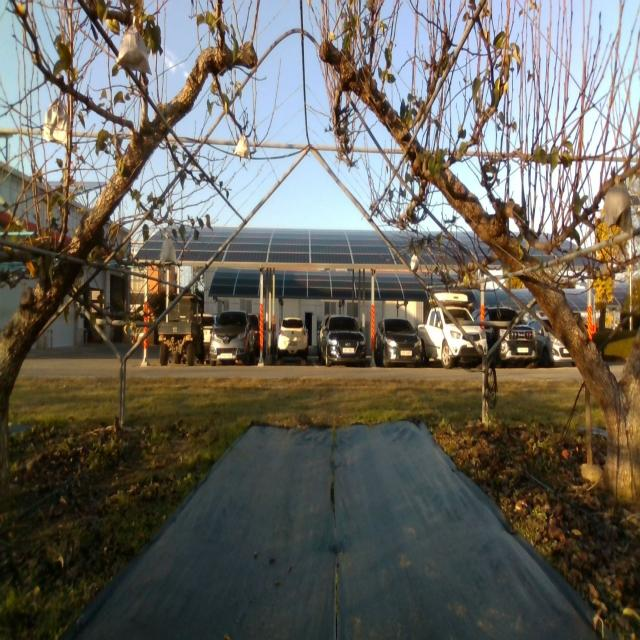pearbags: (115, 25, 152, 75), (604, 184, 632, 233), (44, 100, 68, 142), (160, 239, 177, 265), (233, 136, 250, 160)
